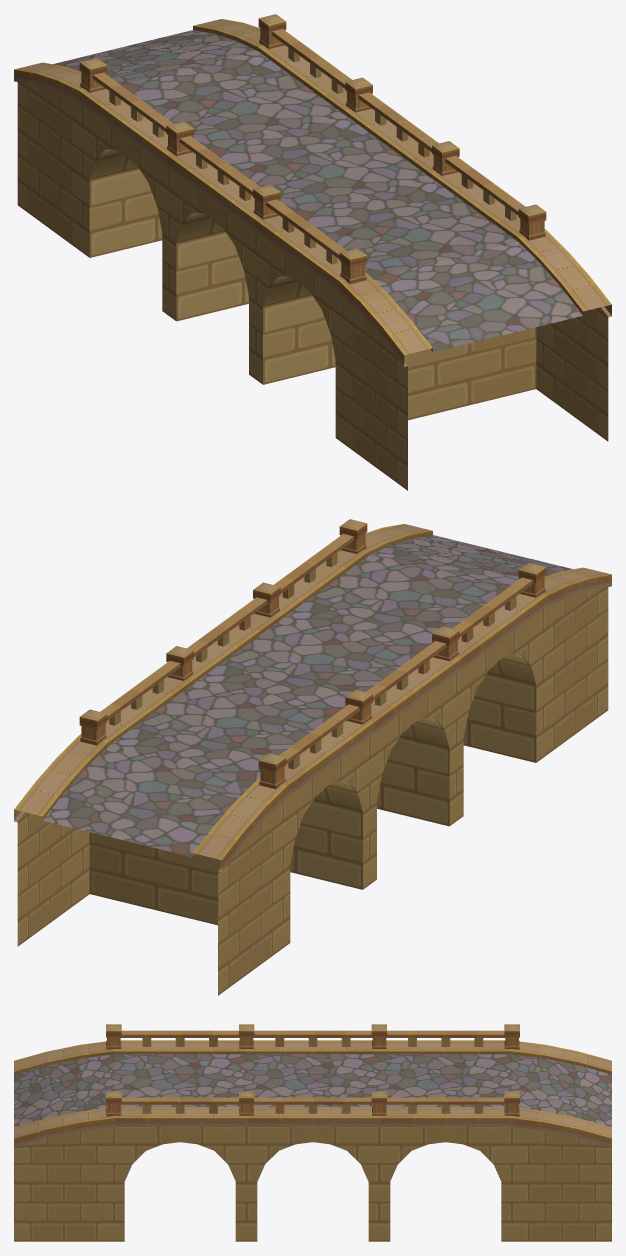
Rendered from Bridge02_c01.FBX.
3 views of the same model, one above another, from view 1: azimuth 30°, elevation 25°; view 2: azimuth 150°, elevation 25°; view 3: azimuth 270°, elevation 25° (orthographic). The views are drawn at different scales.
Parts seen in each view (by area): view 1: Bridge02_c01; view 2: Bridge02_c01; view 3: Bridge02_c01.
Part boxes in pixels (box(x1,y1,x2,y2)): Bridge02_c01: box(14, 14, 611, 490); Bridge02_c01: box(14, 519, 611, 995); Bridge02_c01: box(14, 1024, 611, 1241).
Bounding box in the file's own units: 985 × 860 × 3209.
